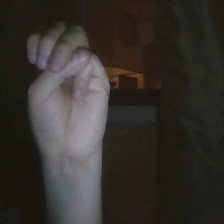M: (13, 15, 132, 169)
